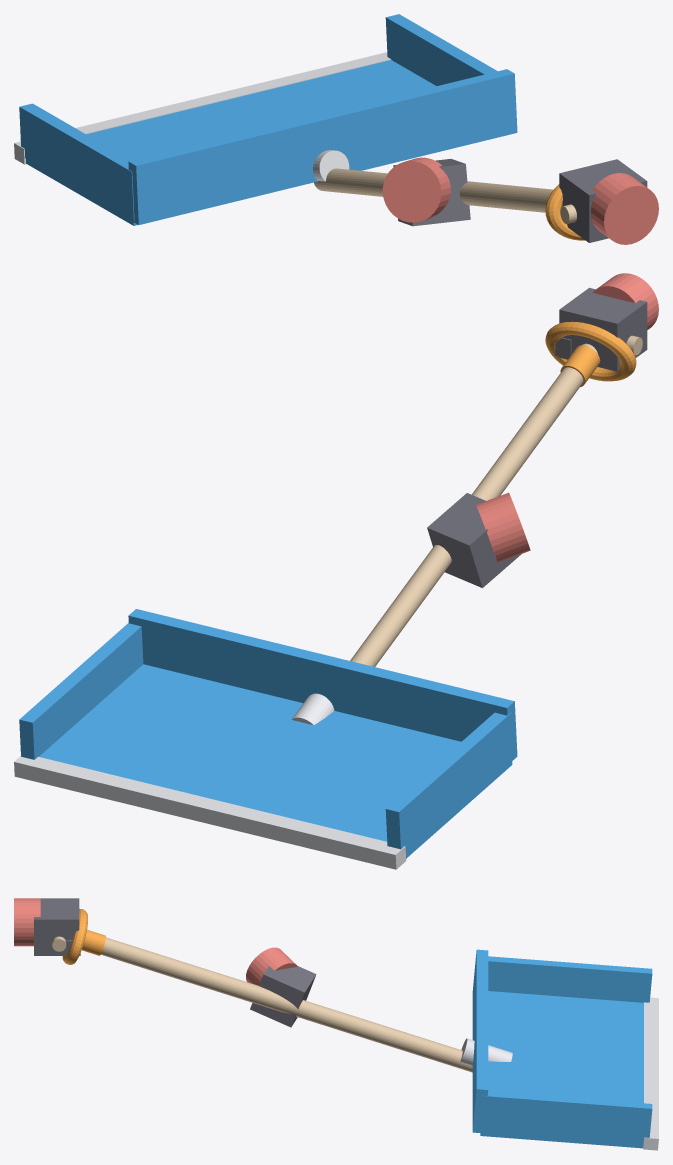
Rendered from first_person_shovel.glb.
The picture shows the model from 3 angles, top to bottom: view 1: azimuth 30°, elevation 25°; view 2: azimuth 150°, elevation 25°; view 3: azimuth 270°, elevation 25°; orthographic projection. The views are drawn at different scales.
Parts seen in each view (by area): view 1: BladeBackWall, BladeFloor, BladeSide_Left, BladeSide_Right, Cuff_Right, WoodenShaft, Cuff_Left, SteelWearStrip, Mitten_Right, Mitten_Left, DLoop, BladeSocket; view 2: BladeFloor, BladeBackWall, SteelWearStrip, BladeSide_Left, WoodenShaft, BladeSide_Right, Mitten_Left, Mitten_Right, Cuff_Left, DLoop, Cuff_Right, BladeSocket; view 3: BladeFloor, BladeSide_Right, WoodenShaft, BladeSide_Left, BladeBackWall, Mitten_Right, SteelWearStrip, Mitten_Left, Cuff_Right, Cuff_Left, BladeSocket, DLoop (+1 smaller).
Boxes of the visible parts, left/top/right/bottom form: BladeBackWall: left=128, top=69, right=517, bottom=224; BladeFloor: left=26, top=60, right=436, bottom=225; BladeSide_Left: left=19, top=103, right=134, bottom=220; BladeSide_Right: left=385, top=14, right=497, bottom=85; Cuff_Right: left=591, top=173, right=658, bottom=244; WoodenShaft: left=314, top=168, right=553, bottom=212; Cuff_Left: left=382, top=157, right=450, bottom=222; SteelWearStrip: left=14, top=52, right=391, bottom=164; Mitten_Right: left=559, top=159, right=647, bottom=242; Mitten_Left: left=393, top=159, right=470, bottom=226; DLoop: left=545, top=184, right=585, bottom=240; BladeSocket: left=313, top=150, right=349, bottom=181; BladeFloor: left=39, top=664, right=512, bottom=858; BladeBackWall: left=128, top=609, right=517, bottom=760; SteelWearStrip: left=14, top=756, right=406, bottom=869; BladeSide_Left: left=385, top=712, right=513, bottom=853; WoodenShaft: left=350, top=343, right=597, bottom=666; BladeSide_Right: left=19, top=623, right=143, bottom=759; Mitten_Left: left=427, top=493, right=521, bottom=587; Mitten_Right: left=559, top=287, right=647, bottom=371; Cuff_Left: left=476, top=492, right=530, bottom=562; DLoop: left=545, top=321, right=636, bottom=381; Cuff_Right: left=592, top=273, right=658, bottom=329; BladeSocket: left=291, top=693, right=334, bottom=725; BladeFloor: left=480, top=991, right=643, bottom=1148; BladeSide_Right: left=479, top=1091, right=652, bottom=1144; WoodenShaft: left=101, top=937, right=472, bottom=1072; BladeSide_Left: left=488, top=956, right=652, bottom=1002; BladeBackWall: left=472, top=949, right=488, bottom=1133; Mitten_Right: left=34, top=898, right=79, bottom=955; SteelWearStrip: left=643, top=997, right=658, bottom=1150; Mitten_Left: left=250, top=966, right=316, bottom=1027; Cuff_Right: left=14, top=898, right=40, bottom=946; Cuff_Left: left=246, top=947, right=297, bottom=985; BladeSocket: left=460, top=1038, right=512, bottom=1065; DLoop: left=62, top=908, right=87, bottom=964.
Size of the model in its own units: 0.625 by 0.3716 by 1.21.
